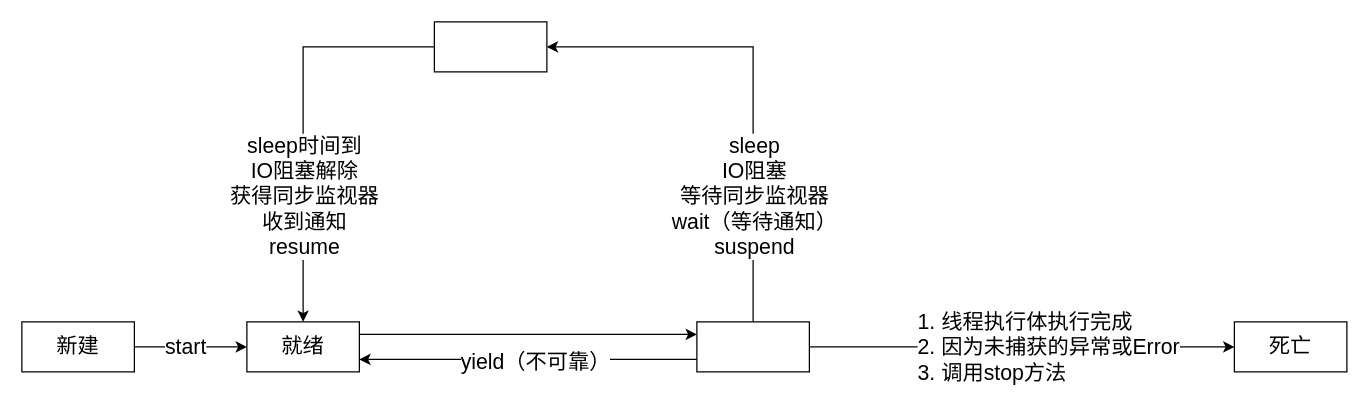
The diagram is 1369 pixels wide and 408 high, and some of its shapes have lost their labels. The shapes that lost their labels are listed below. From the top down, each one's centre as x and y in pixels, then its label:
(490,46): 阻塞
(752,346): 运行
